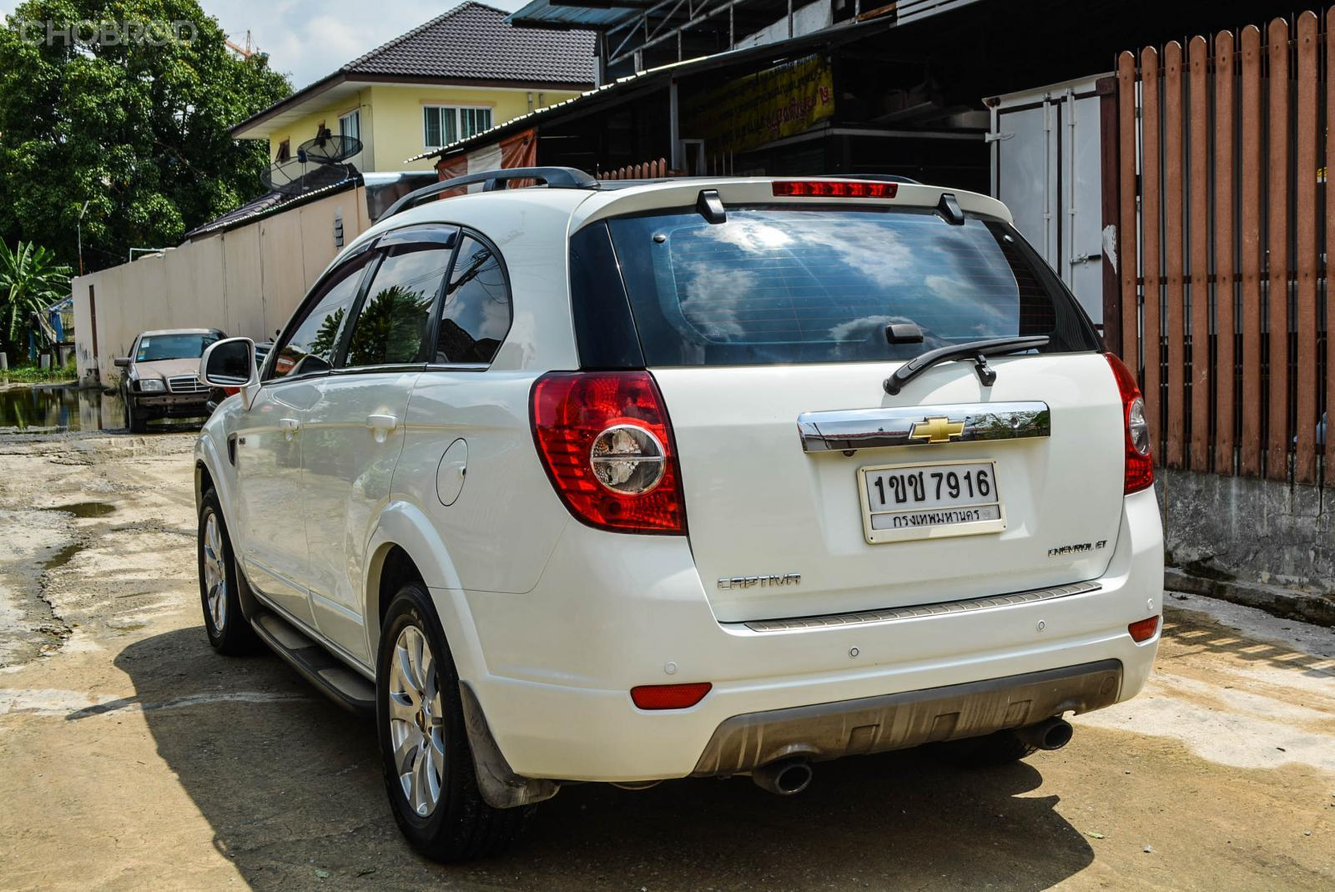license-plate: (848, 453, 1014, 550)
